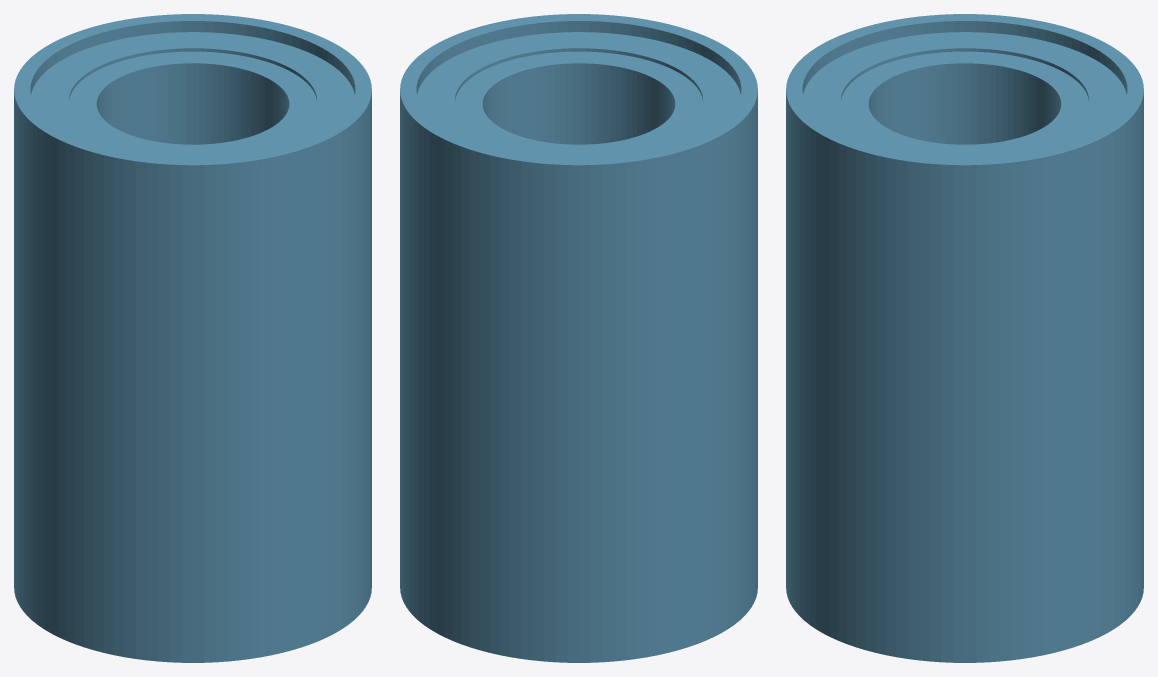
File: rtile.fbx
The picture shows the model from 3 angles, left to right: view 1: azimuth 30°, elevation 25°; view 2: azimuth 150°, elevation 25°; view 3: azimuth 270°, elevation 25°; orthographic projection.
Parts seen in each view (by area): view 1: /tmp/importOpenSceneGraph2a0b9/RTile.wrl_Group__Geometry_0, /tmp/importOpenSceneGraph2a0b9/RTile.wrl_Group_MatrixTransfo; view 2: /tmp/importOpenSceneGraph2a0b9/RTile.wrl_Group__Geometry_0, /tmp/importOpenSceneGraph2a0b9/RTile.wrl_Group_MatrixTransfo; view 3: /tmp/importOpenSceneGraph2a0b9/RTile.wrl_Group__Geometry_0, /tmp/importOpenSceneGraph2a0b9/RTile.wrl_Group_MatrixTransfo.
Boxes of the visible parts, x1,y1,x2,y2 form: /tmp/importOpenSceneGraph2a0b9/RTile.wrl_Group__Geometry_0: (14, 216, 371, 662); /tmp/importOpenSceneGraph2a0b9/RTile.wrl_Group_MatrixTransfo: (14, 14, 371, 290); /tmp/importOpenSceneGraph2a0b9/RTile.wrl_Group__Geometry_0: (400, 216, 757, 662); /tmp/importOpenSceneGraph2a0b9/RTile.wrl_Group_MatrixTransfo: (400, 14, 757, 290); /tmp/importOpenSceneGraph2a0b9/RTile.wrl_Group__Geometry_0: (786, 216, 1143, 662); /tmp/importOpenSceneGraph2a0b9/RTile.wrl_Group_MatrixTransfo: (786, 14, 1143, 290).
Bounding box in the file's own units: 8500 × 13044 × 8500.
